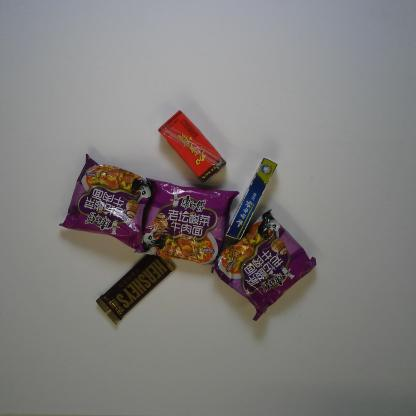Chocolate: (94, 248, 178, 327)
Drink: (155, 108, 228, 182)
Instant Noodles: (211, 208, 318, 322), (134, 174, 240, 266), (56, 150, 151, 250)
Personal Hygiene: (224, 156, 280, 243)
